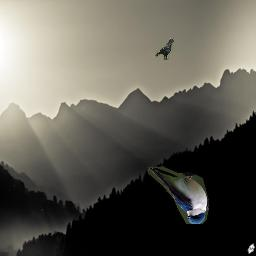Crow: (156, 38, 175, 60)
Swallow: (149, 166, 210, 224)
